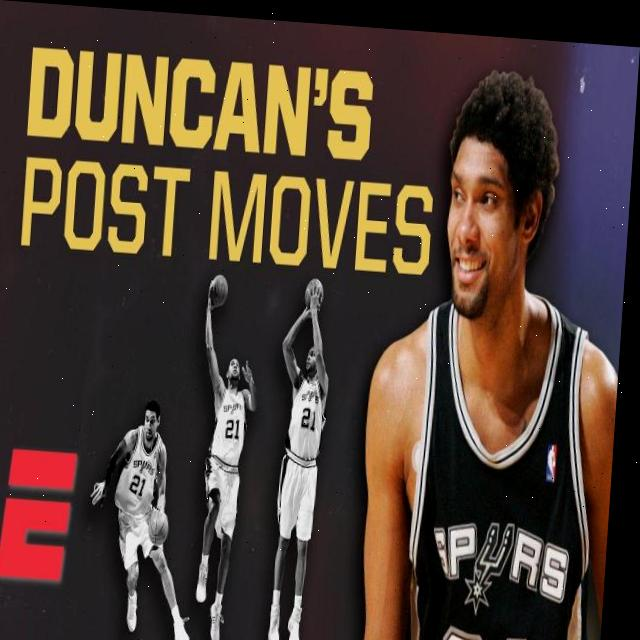Basketball: (147, 509, 170, 547), (304, 278, 325, 311), (211, 275, 229, 306)
